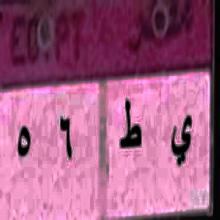5: (15, 122, 33, 165)
6: (58, 106, 75, 173)
Taa: (118, 93, 143, 156)
yaa: (170, 112, 195, 172)
